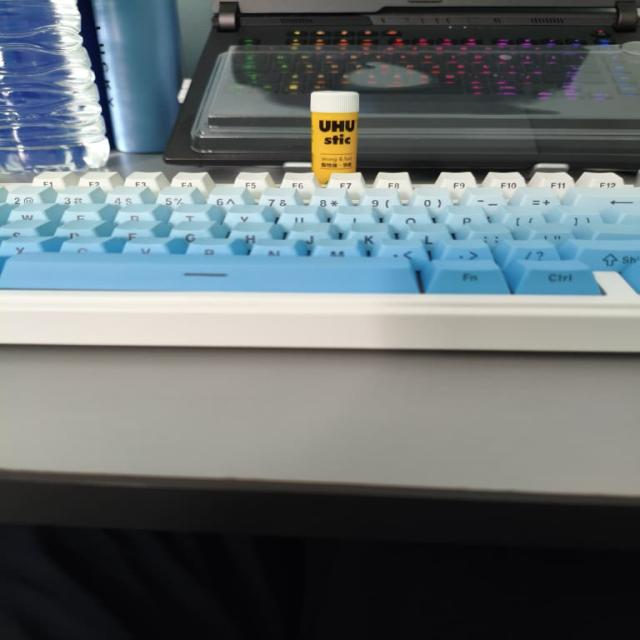glue: (311, 91, 358, 182)
